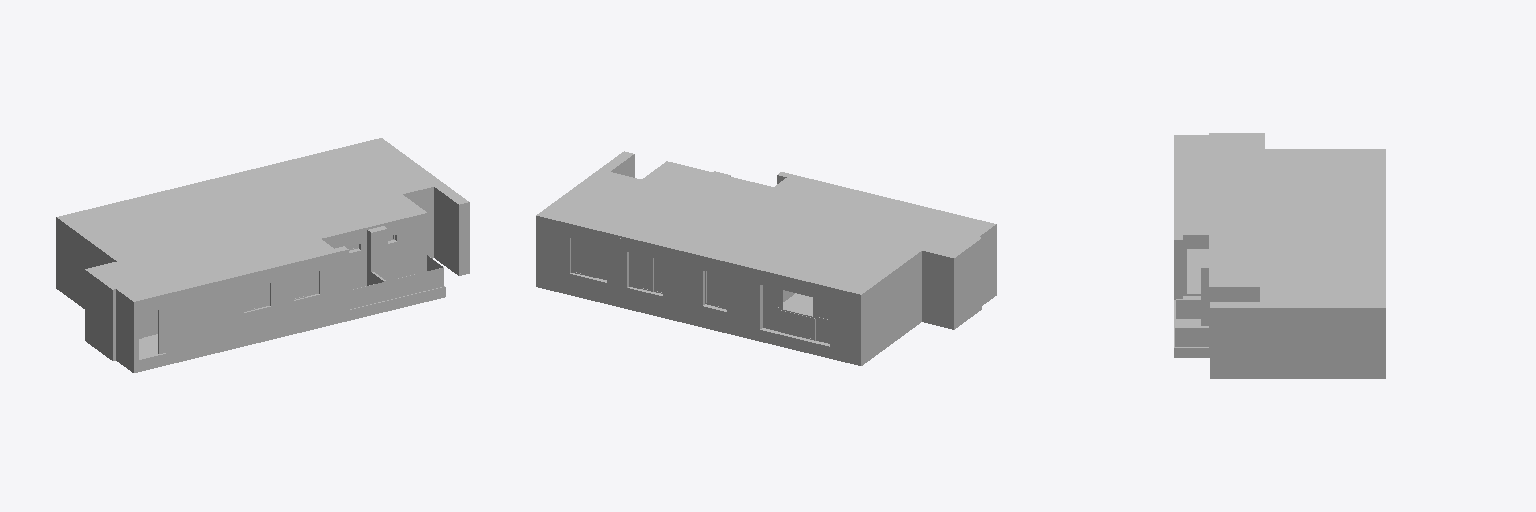
The model's file is Duxton Render.obj.
3 renders of one model, left to right at view 1: azimuth 30°, elevation 25°; view 2: azimuth 150°, elevation 25°; view 3: azimuth 270°, elevation 25°, orthographic.
Visible parts, largest first — view 1: object_43, object_9, object_10; view 2: object_43, object_9; view 3: object_43, object_9, object_10.
Boxes of the visible parts, <box> form: object_43: <box>56,138,469,303</box>; object_9: <box>56,189,469,372</box>; object_10: <box>349,255,443,309</box>; object_43: <box>536,151,996,296</box>; object_9: <box>536,156,996,365</box>; object_43: <box>1174,133,1385,309</box>; object_9: <box>1174,237,1385,378</box>; object_10: <box>1175,328,1208,346</box>.
Size of the model in its own units: 15.7 by 3 by 8.08.